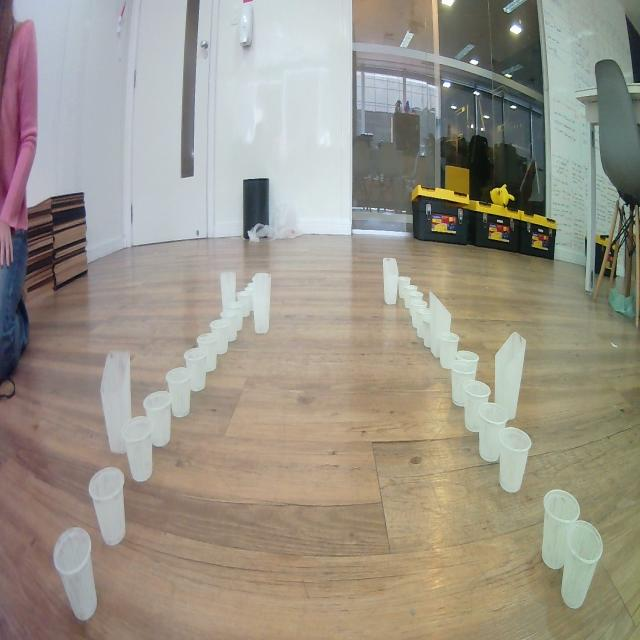erva_daninha: (101, 349, 132, 455), (494, 331, 526, 422), (429, 291, 452, 358), (252, 272, 271, 335), (382, 257, 400, 305), (220, 271, 237, 310)
planta: (52, 527, 98, 622), (561, 520, 603, 610), (542, 489, 580, 569), (89, 466, 126, 546), (499, 427, 532, 493), (121, 416, 153, 482), (478, 402, 509, 463), (143, 390, 172, 448), (464, 381, 492, 433), (166, 366, 193, 418), (451, 360, 476, 407), (185, 347, 208, 392), (196, 332, 218, 372), (455, 349, 479, 384), (439, 331, 459, 370), (210, 319, 228, 355), (220, 309, 238, 342), (227, 301, 243, 331), (411, 300, 427, 330), (416, 307, 430, 338), (236, 292, 251, 317), (403, 285, 418, 309), (409, 292, 423, 317), (423, 318, 433, 348), (398, 276, 411, 299), (243, 287, 255, 311), (249, 282, 259, 304)
